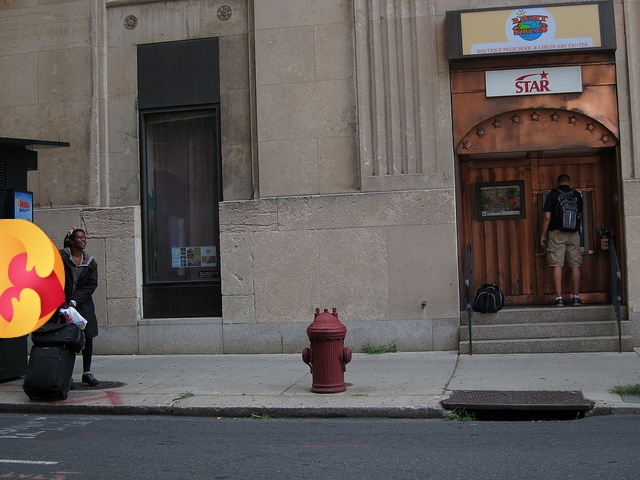care: (0, 219, 65, 338)
